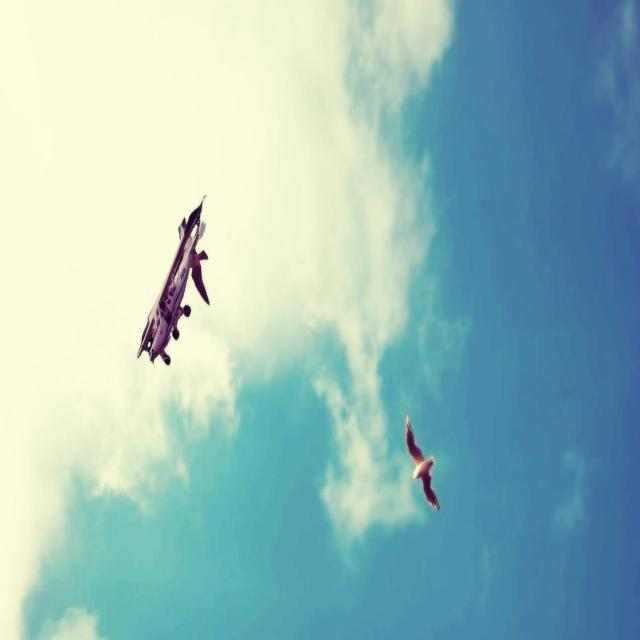airplane: (136, 194, 210, 367)
